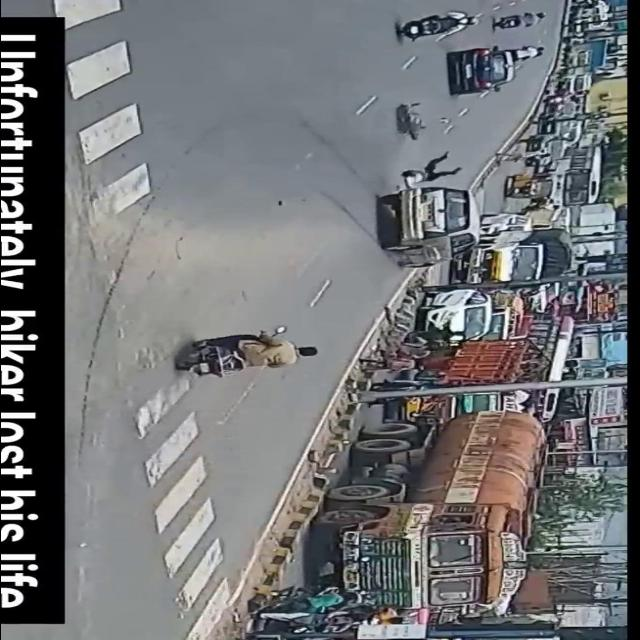accident: (367, 145, 491, 279), (392, 79, 448, 146)
non_accident: (247, 405, 553, 640), (370, 287, 578, 405), (516, 0, 636, 196), (446, 195, 586, 283)
